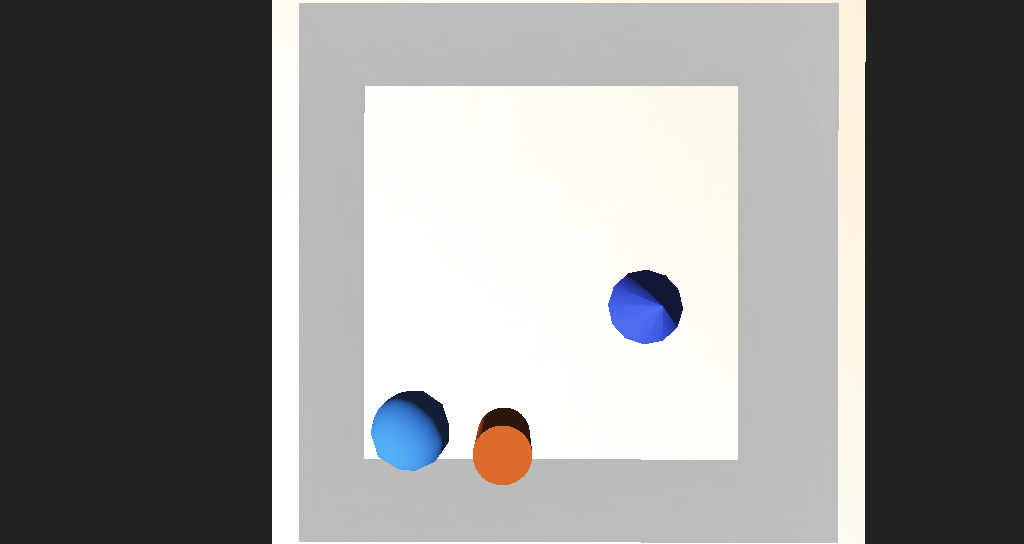cone: (441, 346, 488, 389)
cylinder: (552, 262, 620, 310)
sphere: (357, 336, 424, 379)
